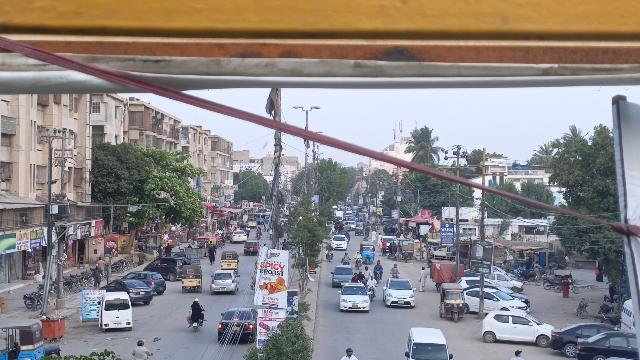Bike: (572, 296, 590, 319), (190, 317, 201, 333), (368, 285, 376, 302), (374, 269, 382, 284), (326, 250, 334, 262), (355, 257, 362, 270), (389, 272, 400, 278), (343, 258, 351, 265)
Car: (481, 309, 552, 347), (549, 321, 621, 355), (575, 329, 640, 360), (463, 284, 523, 317), (216, 303, 260, 346), (100, 276, 153, 304), (124, 269, 168, 296), (382, 277, 417, 310), (337, 281, 371, 314), (144, 256, 188, 281), (209, 269, 240, 294), (329, 264, 354, 285)
Person: (416, 265, 429, 294), (187, 298, 205, 317), (92, 264, 104, 287), (366, 275, 378, 287), (362, 265, 372, 278), (373, 260, 383, 271), (325, 242, 335, 252), (390, 262, 399, 273), (341, 251, 350, 261), (357, 270, 365, 281), (351, 272, 359, 283), (354, 250, 362, 259)
Rickshaw: (0, 318, 44, 360), (437, 281, 470, 323), (180, 263, 203, 294), (359, 240, 376, 267), (219, 250, 240, 271)
Van: (405, 324, 454, 360), (97, 291, 135, 331)
